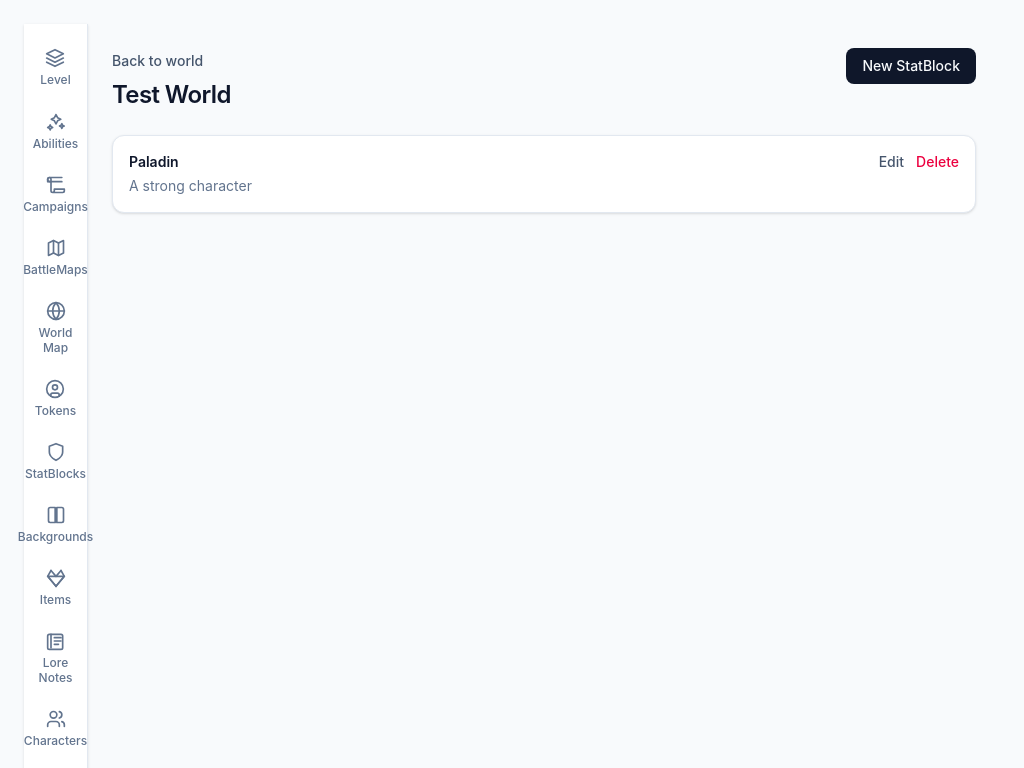
Test: StatBlocksPage › delete statblock › closes confirmation when Cancel is clicked
This screenshot has width=1024, height=768.
// First delete button is on the card, not the confirm dialog
Click the button "Delete". click: (938, 162)
box: [916,152,959,172]
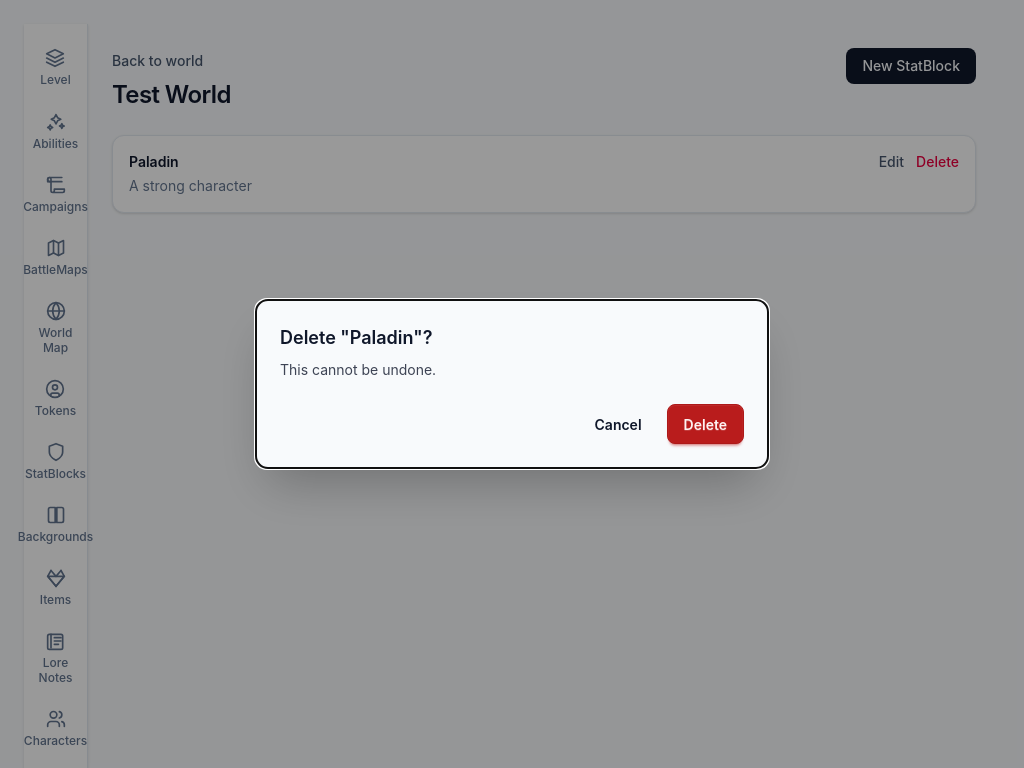
Click the button "Cancel". click: (618, 424)
box: [578,404,658,444]
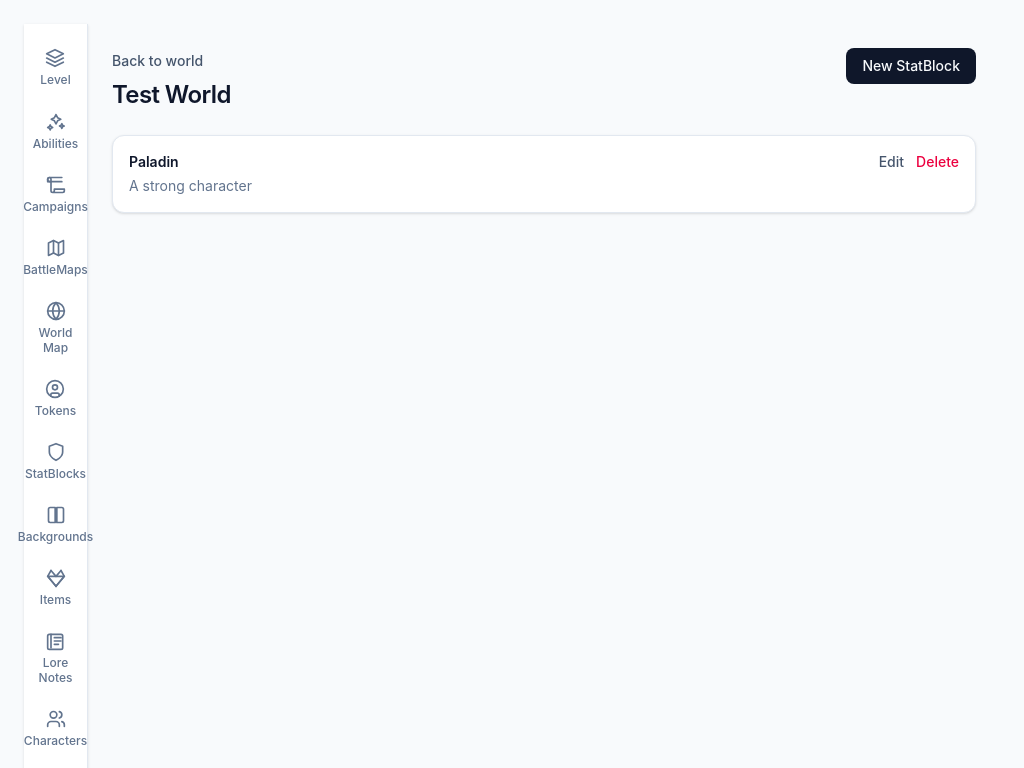
Result: the heading "Delete \"Paladin\"?" is gone
